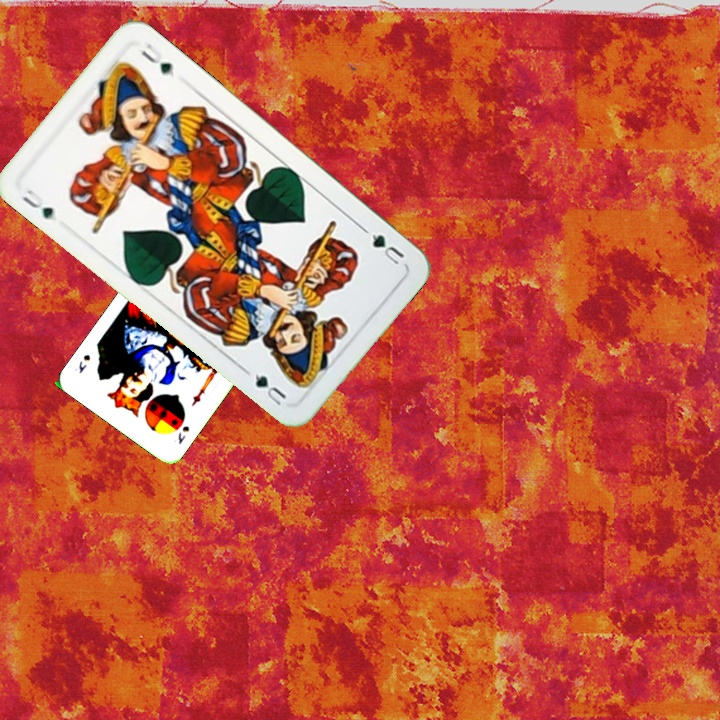GU: (366, 229, 407, 268), (18, 185, 56, 223)
SK: (173, 422, 192, 447)
